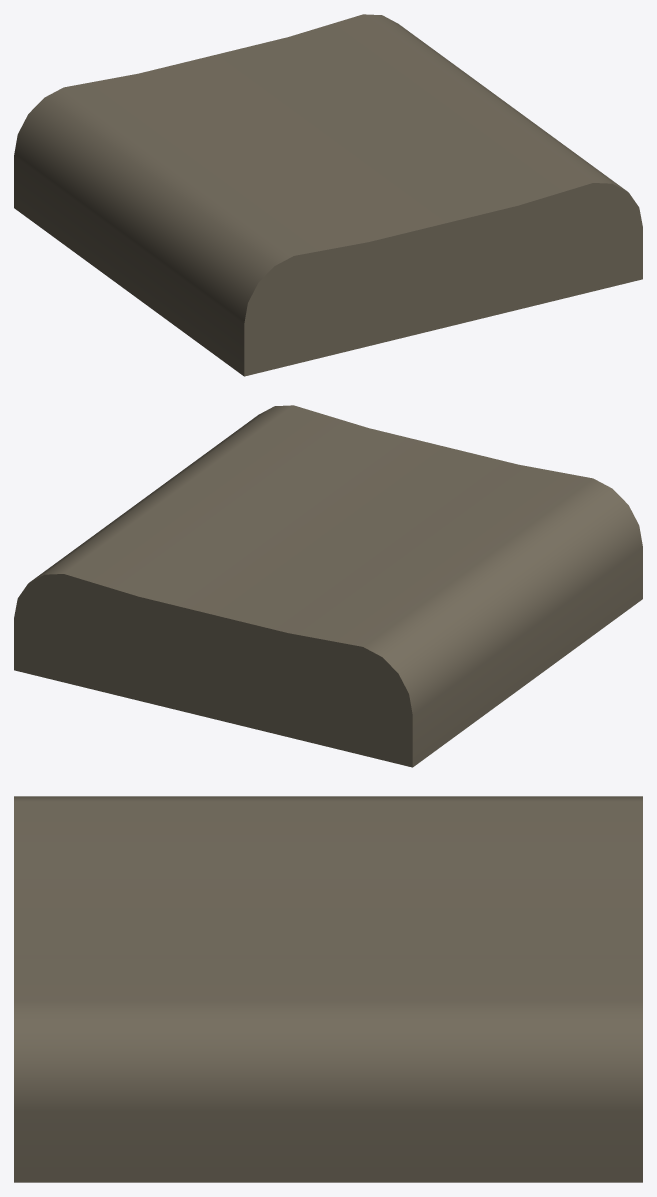
File: dirtroad-section.fbx
3 renders of one model, top to bottom at view 1: azimuth 30°, elevation 25°; view 2: azimuth 150°, elevation 25°; view 3: azimuth 270°, elevation 25°, orthographic. The views are drawn at different scales.
Visible parts, largest first — view 1: pCube112; view 2: pCube112; view 3: pCube112.
Boxes of the visible parts, left/top/right/bottom form: pCube112: left=14, top=14, right=642, bottom=376; pCube112: left=14, top=405, right=642, bottom=767; pCube112: left=14, top=796, right=642, bottom=1182.
Size of the model in its own units: 400 by 104 by 400.
